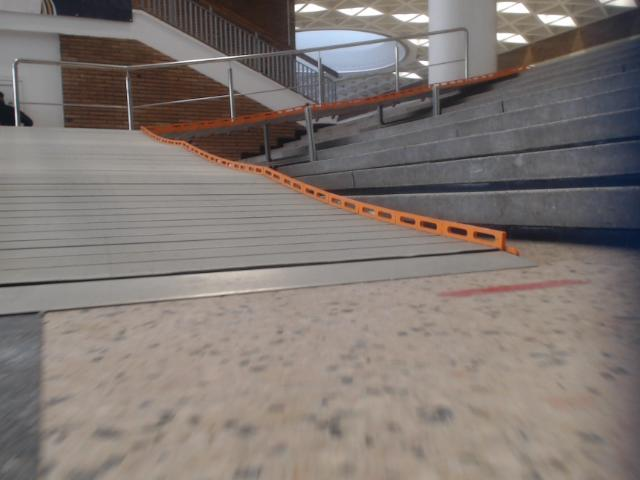rampUp: (0, 127, 532, 313)
ramps-railing: (13, 36, 411, 114), (21, 57, 466, 111), (122, 52, 283, 129), (305, 54, 325, 103), (220, 67, 233, 118), (425, 27, 468, 39), (459, 28, 468, 78), (395, 45, 400, 91), (14, 61, 19, 105), (289, 50, 306, 55)
